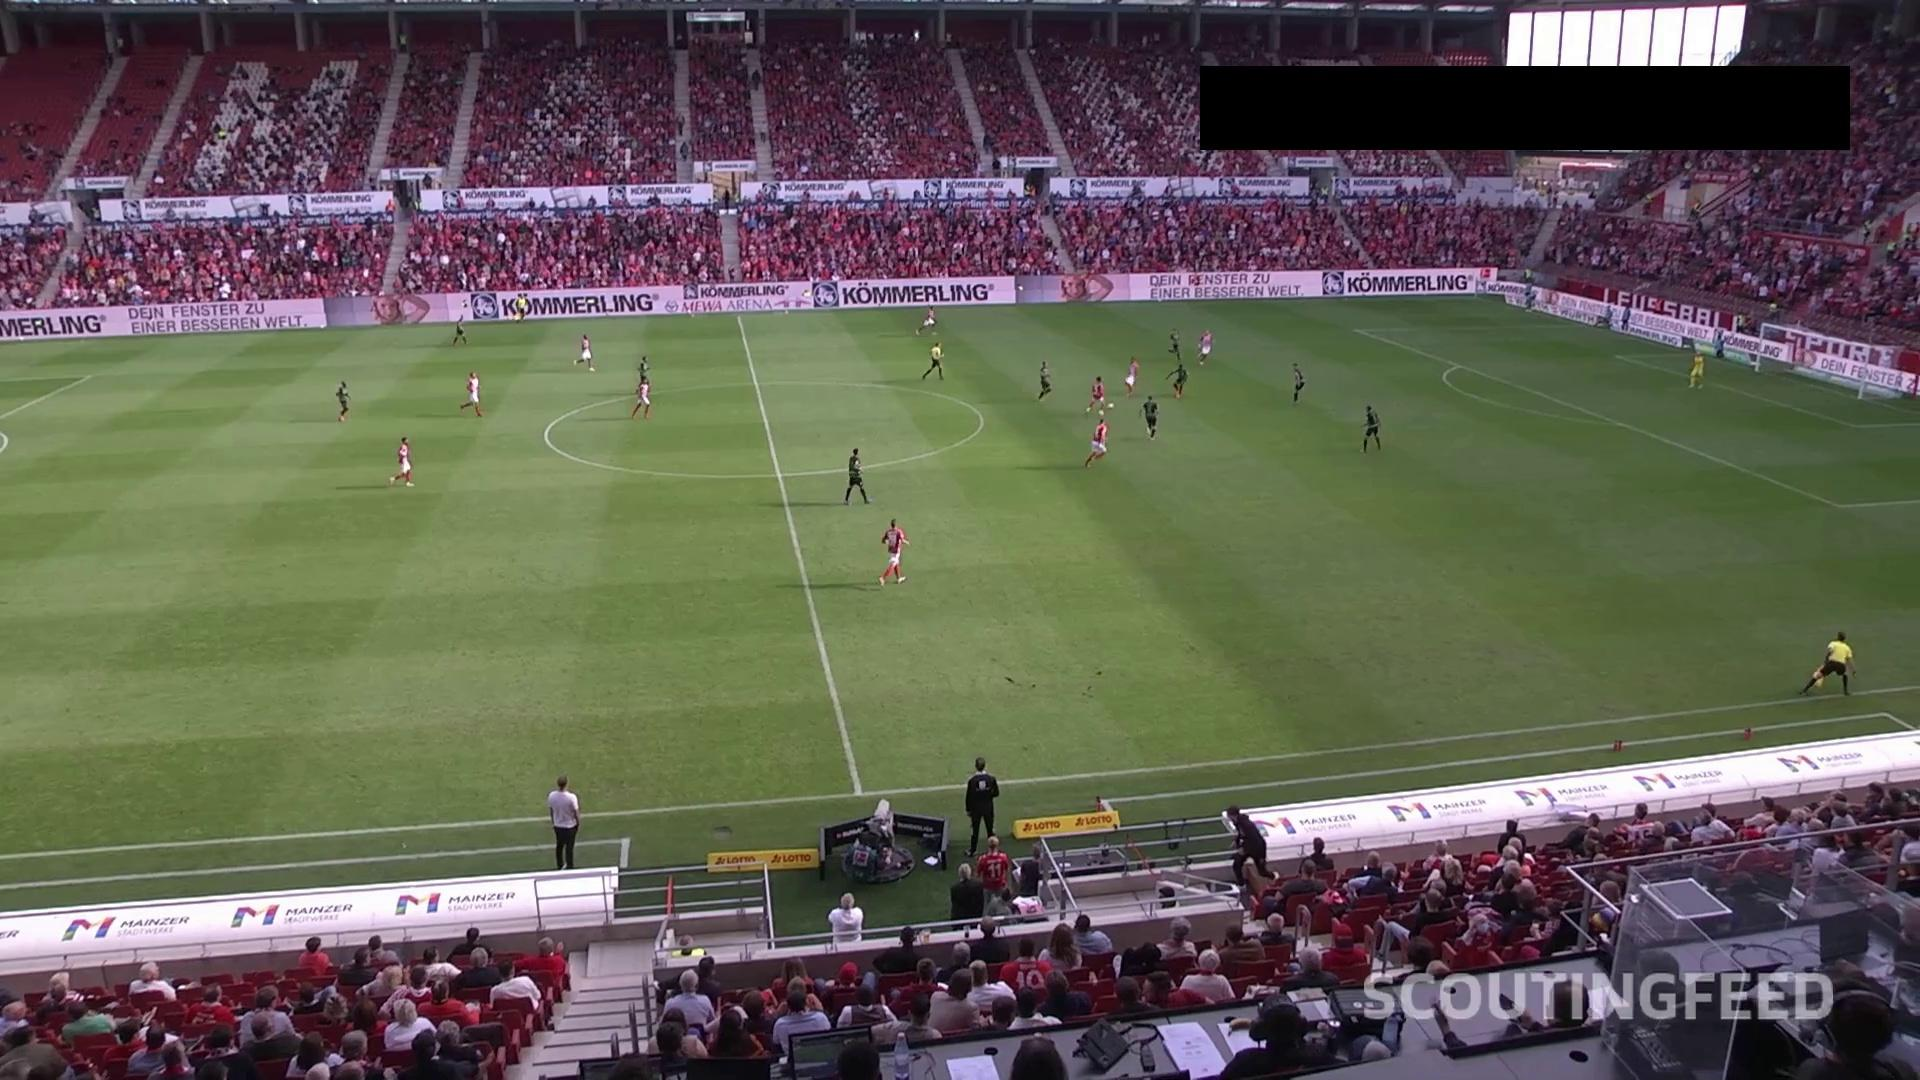Location-of-ball: (1100, 396, 1122, 418)
